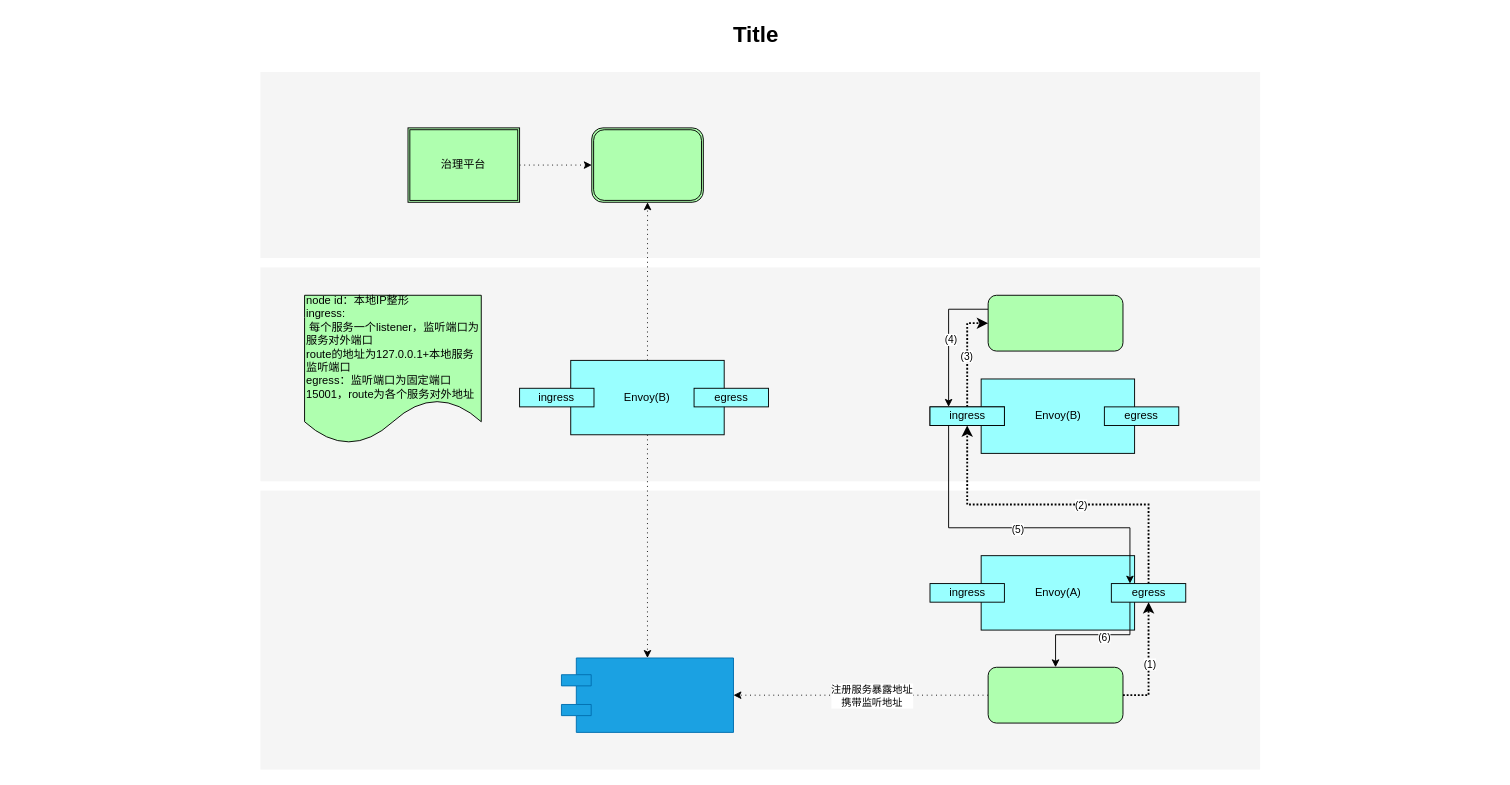
This 1510x785 diagram has some shape labels left out. Each missing label, with the centre of its shape:
"Service (A)" belongs at point (1055, 694).
"Service(B)" belongs at point (1055, 322).
"北极星" belongs at point (647, 694).
"通知变更服务" belongs at point (647, 164).
